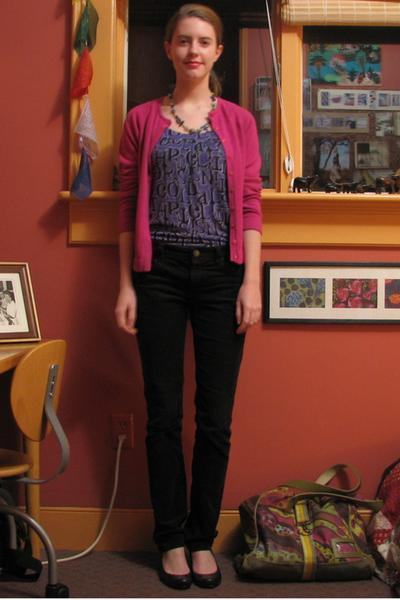jacket: (113, 97, 275, 270)
pants: (131, 239, 245, 563)
shirt: (148, 117, 233, 258)
